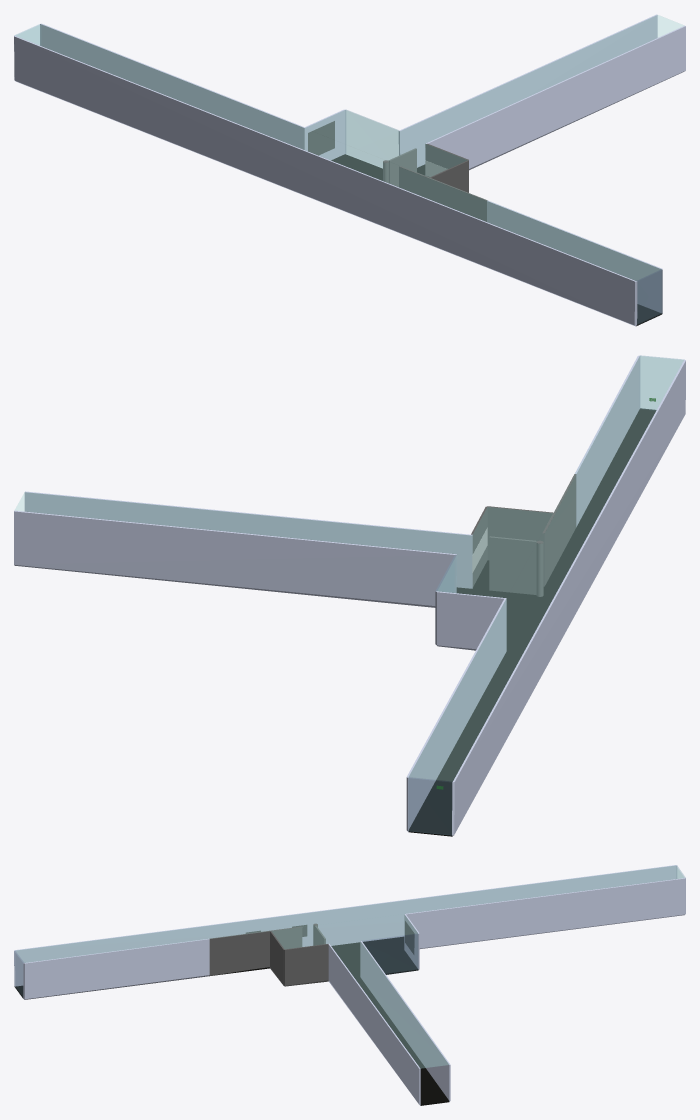
The model's file is inue-no-walls.glb.
3 views of the same model, one above another, from view 1: azimuth 30°, elevation 25°; view 2: azimuth 150°, elevation 25°; view 3: azimuth 270°, elevation 25° (orthographic). The views are drawn at different scales.
Visible parts, largest first — view 1: plasterboard, ceiling, concretewalls, lobbyglass, northernwall, floor, alumniwall, KNSW, KWEW; view 2: plasterboard, ceiling, floor, concretewalls, KWEW, southernwall, northernwall, KNSW; view 3: plasterboard, ceiling, concretewalls, floor, lobbyglass, KNSW.
Part boxes in pixels (x1=…): plasterboard: x1=14, y1=14, x2=685, y2=326; ceiling: x1=16, y1=15, x2=683, y2=280; concretewalls: x1=425, y1=143, x2=487, y2=221; lobbyglass: x1=346, y1=110, x2=398, y2=167; northernwall: x1=637, y1=269, x2=661, y2=324; floor: x1=331, y1=154, x2=662, y2=326; alumniwall: x1=308, y1=121, x2=334, y2=155; KNSW: x1=399, y1=166, x2=429, y2=198; KWEW: x1=388, y1=148, x2=416, y2=186; plasterboard: x1=14, y1=355, x2=685, y2=836; ceiling: x1=15, y1=356, x2=683, y2=781; floor: x1=408, y1=408, x2=656, y2=836; concretewalls: x1=471, y1=474, x2=576, y2=586; KWEW: x1=489, y1=536, x2=536, y2=594; southernwall: x1=408, y1=777, x2=452, y2=835; northernwall: x1=640, y1=355, x2=683, y2=409; KNSW: x1=542, y1=513, x2=555, y2=586; plasterboard: x1=14, y1=865, x2=685, y2=1105; ceiling: x1=16, y1=865, x2=684, y2=1068; concretewalls: x1=209, y1=930, x2=328, y2=986; floor: x1=14, y1=936, x2=449, y2=1105; lobbyglass: x1=362, y1=934, x2=418, y2=974; KNSW: x1=271, y1=926, x2=302, y2=949.
Bounding box in the file's own units: 36.03 × 3.09 × 50.17.
